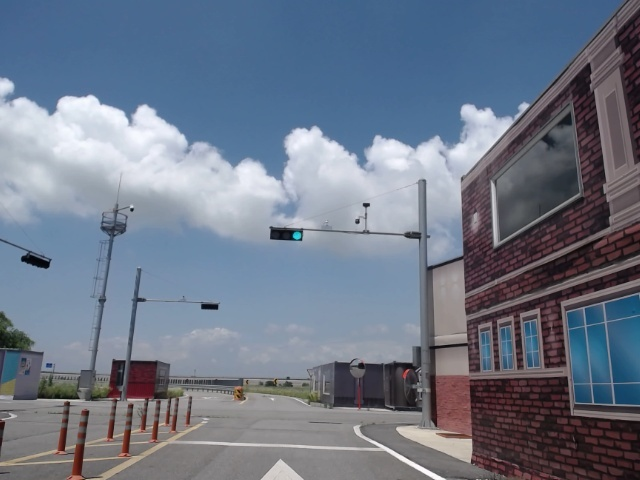green_3: (271, 230, 303, 240)
